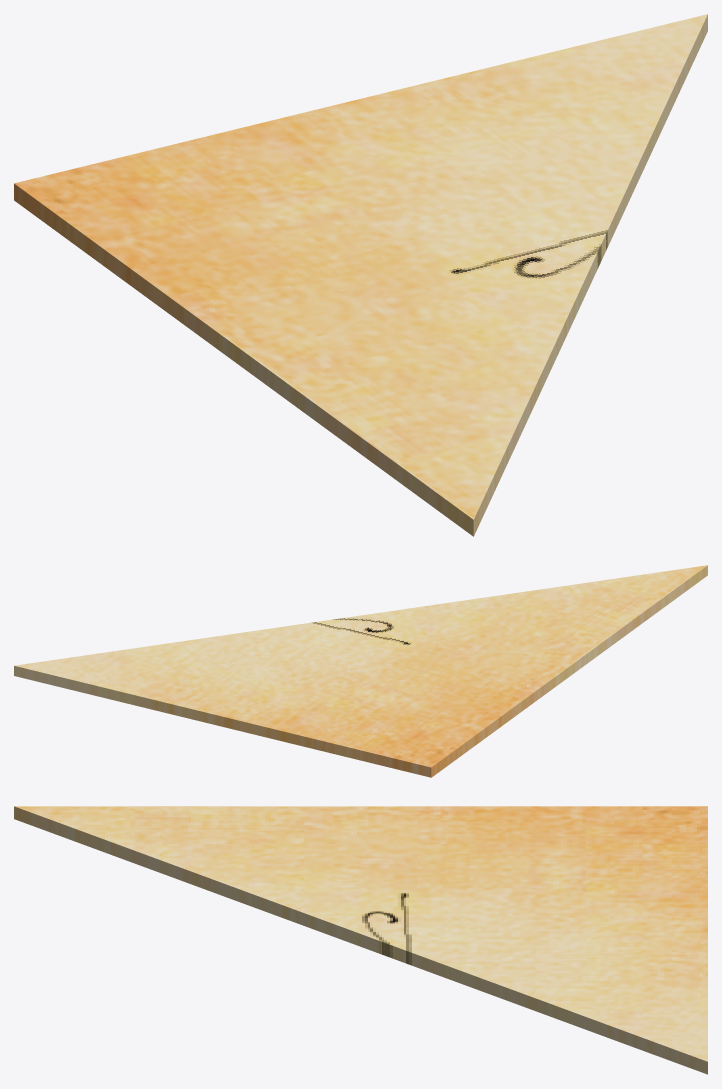
The model's file is bout-lettre.glb.
3 views of the same model, one above another, from view 1: azimuth 30°, elevation 25°; view 2: azimuth 150°, elevation 25°; view 3: azimuth 270°, elevation 25° (orthographic). The views are drawn at different scales.
Visible parts, largest first — view 1: lettrelangue.002; view 2: lettrelangue.002; view 3: lettrelangue.002.
Part boxes in pixels (bbox=[...]): lettrelangue.002: bbox=[14, 14, 707, 536]; lettrelangue.002: bbox=[14, 565, 707, 777]; lettrelangue.002: bbox=[14, 806, 707, 1074].
Bounding box in the file's own units: 0.427 × 0.01 × 0.4899.
1 material, 1 textured.
